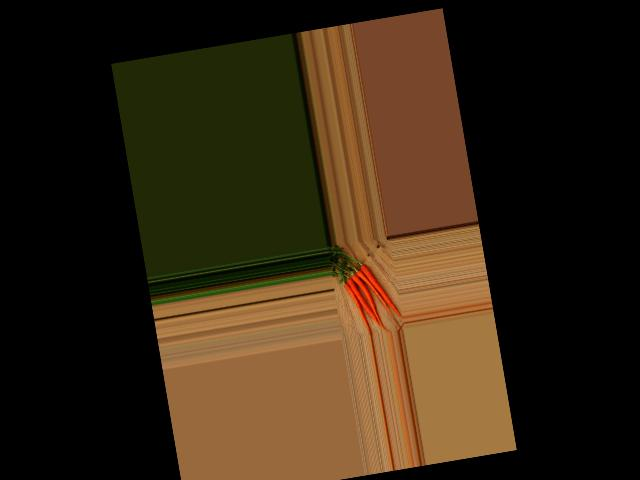carrot: (342, 281, 372, 336)
